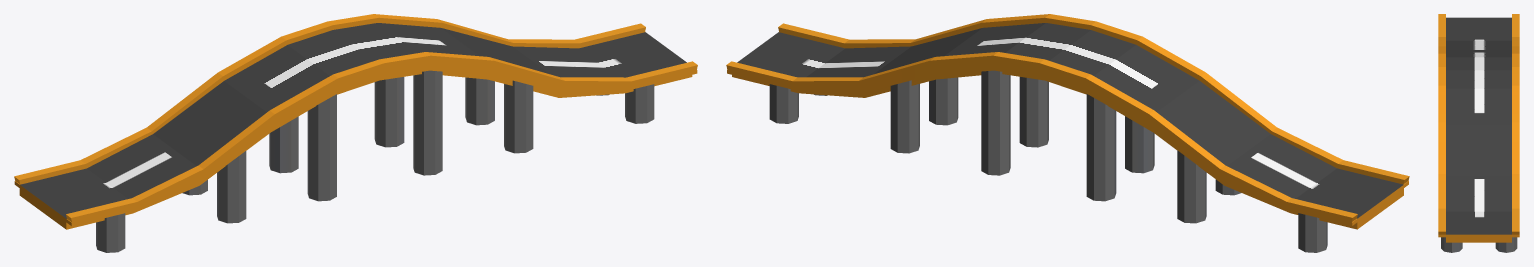
The model's file is Bridge.fbx.
The picture shows the model from 3 angles, left to right: view 1: azimuth 30°, elevation 25°; view 2: azimuth 150°, elevation 25°; view 3: azimuth 270°, elevation 25°; orthographic projection. The views are drawn at different scales.
Visible parts, largest first — view 1: Bridge, Road; view 2: Bridge, Road; view 3: Road, Bridge.
Part boxes in pixels (bbox=[...]): Bridge: bbox=[14, 14, 697, 252]; Road: bbox=[20, 23, 686, 218]; Bridge: bbox=[726, 14, 1409, 252]; Road: bbox=[737, 23, 1403, 218]; Road: bbox=[1446, 17, 1511, 234]; Bridge: bbox=[1438, 14, 1519, 252].
Size of the model in its own units: 7763 by 1490 by 1222.
